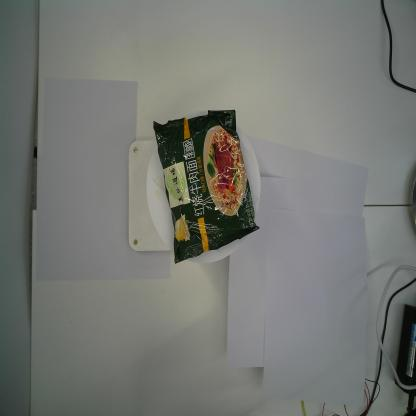Instant Noodles: (153, 109, 260, 263)
